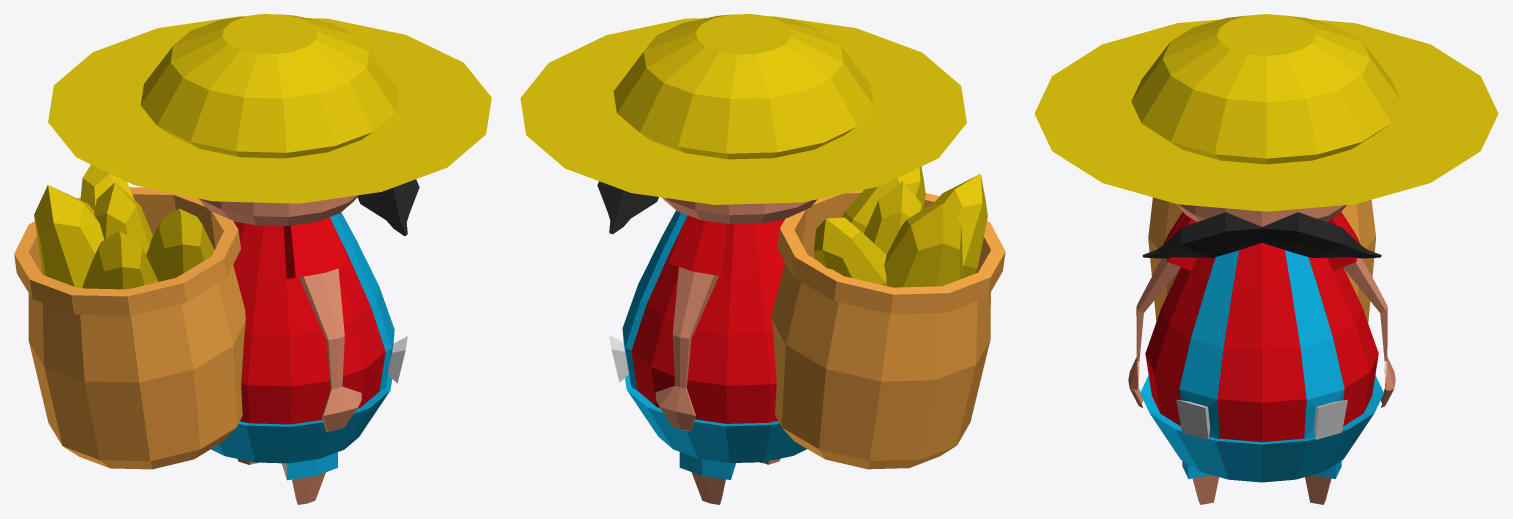
File: zé antonio.fbx
3 renders of one model, left to right at view 1: azimuth 30°, elevation 25°; view 2: azimuth 150°, elevation 25°; view 3: azimuth 270°, elevation 25°, orthographic. The views are drawn at different scales.
Parts seen in each view (by area): view 1: Cilindro, Cilindro.001; view 2: Cilindro, Cilindro.001; view 3: Cilindro, Cilindro.001.
Boxes of the visible parts, x1,y1,x2,y2 form: Cilindro: (48, 14, 491, 504); Cilindro.001: (14, 164, 245, 469); Cilindro: (520, 14, 966, 504); Cilindro.001: (771, 167, 1005, 469); Cilindro: (1034, 14, 1498, 504); Cilindro.001: (1148, 197, 1376, 322).
Size of the model in its own units: 656 by 641 by 583.
